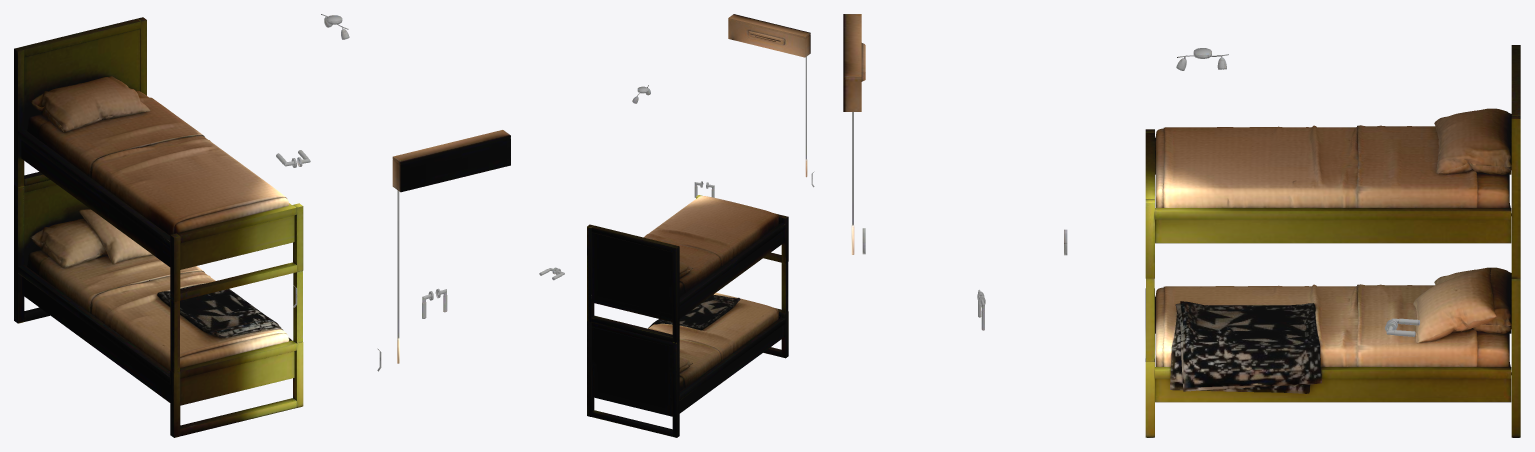
Rendered from SM_SmallR_F0.glb.
3 renders of one model, left to right at view 1: azimuth 30°, elevation 25°; view 2: azimuth 150°, elevation 25°; view 3: azimuth 270°, elevation 25°, orthographic. The views are drawn at different scales.
Parts seen in each view (by area): view 1: SM_SmallR_F0; view 2: SM_SmallR_F0; view 3: SM_SmallR_F0.
Boxes of the visible parts, x1,y1,x2,y2 form: SM_SmallR_F0: (14, 14, 510, 437); SM_SmallR_F0: (539, 14, 814, 437); SM_SmallR_F0: (843, 14, 1520, 437).
Bounding box in the file's own units: 1.77 × 2.49 × 3.65.
Materials: 1 (1 with a texture image).
